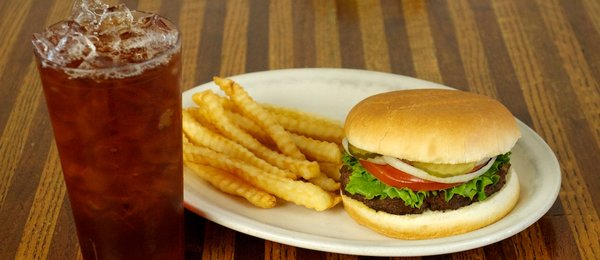pizza: (31, 3, 183, 257)
soup: (339, 88, 524, 241)
